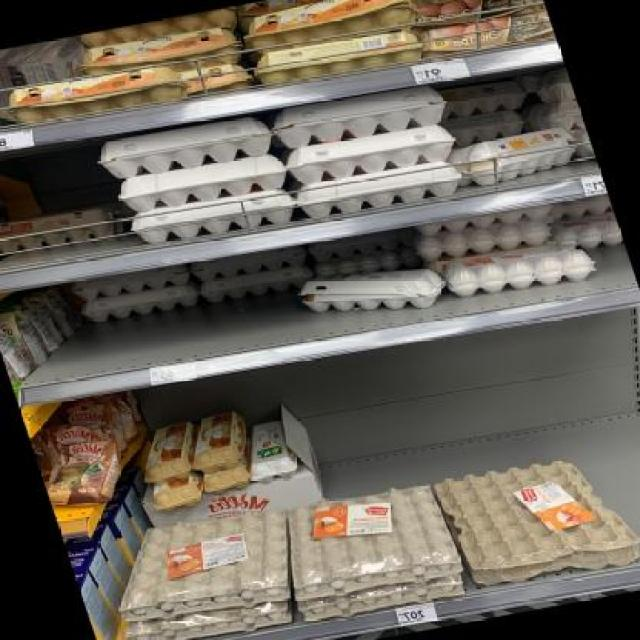Egg: (1, 56, 200, 132), (65, 22, 246, 90), (237, 0, 423, 57), (0, 197, 131, 261), (34, 435, 137, 514), (416, 8, 556, 61), (178, 408, 259, 475), (131, 417, 209, 486), (58, 395, 136, 460), (405, 1, 540, 34), (237, 419, 300, 484), (0, 304, 52, 380), (178, 60, 252, 98), (145, 476, 209, 513), (384, 0, 538, 12), (202, 467, 252, 495)
